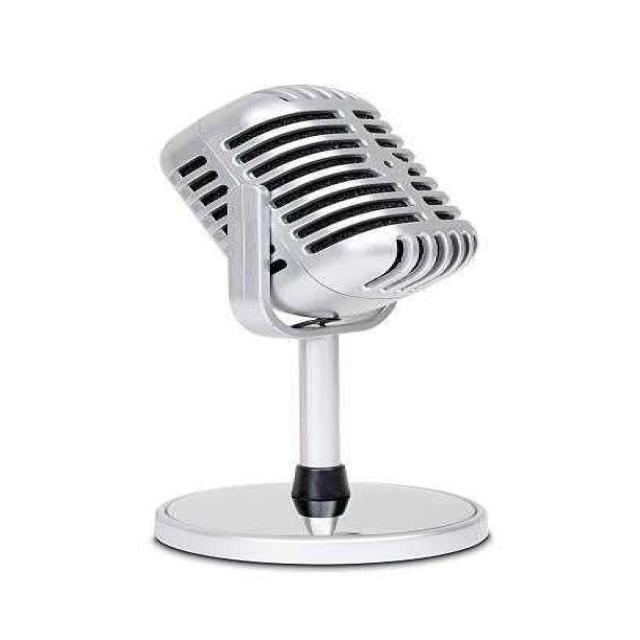microphone: (138, 82, 508, 344)
